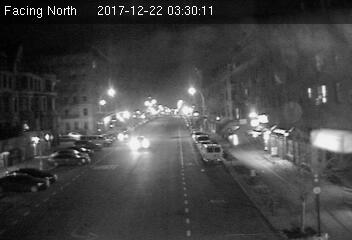car: (128, 135, 153, 151)
truck: (201, 144, 225, 164)
